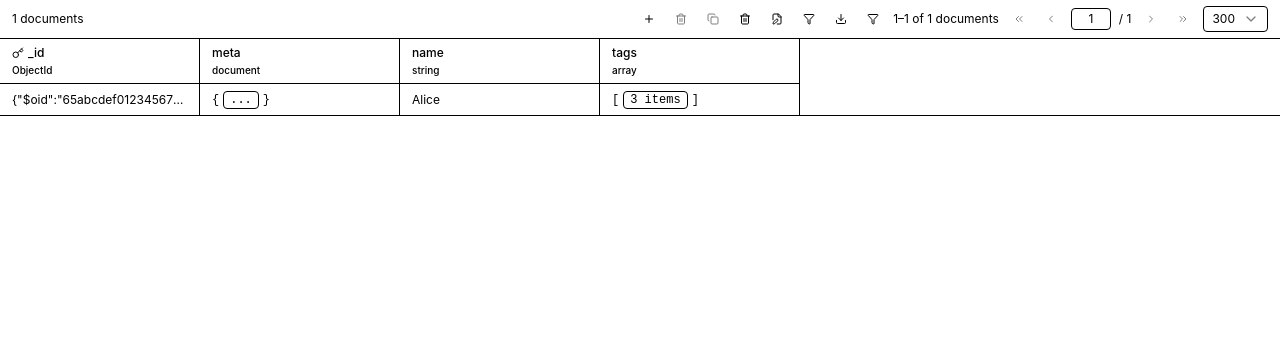
Test: DocumentDataGrid — nested inline tree (Sprint 341 Option D) › array sentinel toggle shows [i] index leaves
This screenshot has width=1280, height=353.
Expected: the text "Alice" is shown, [412,92,440,108]
Click the button with aria-label "Expand tags" at (655, 100), box [623,90,688,108]
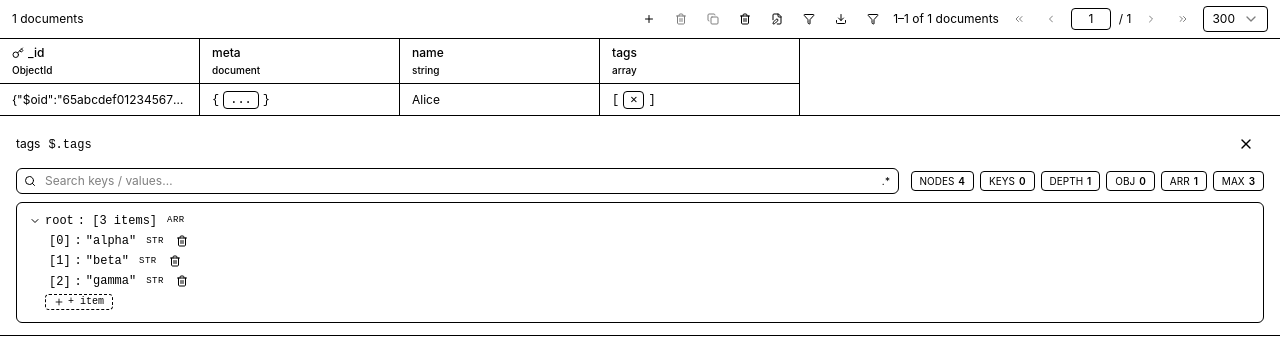
Expected: the list item "[0]: \"alpha\" STR" is shown, [49,233,188,249]
Expected: the list item "[2]: \"gamma\" STR" is shown, [49,273,188,289]
